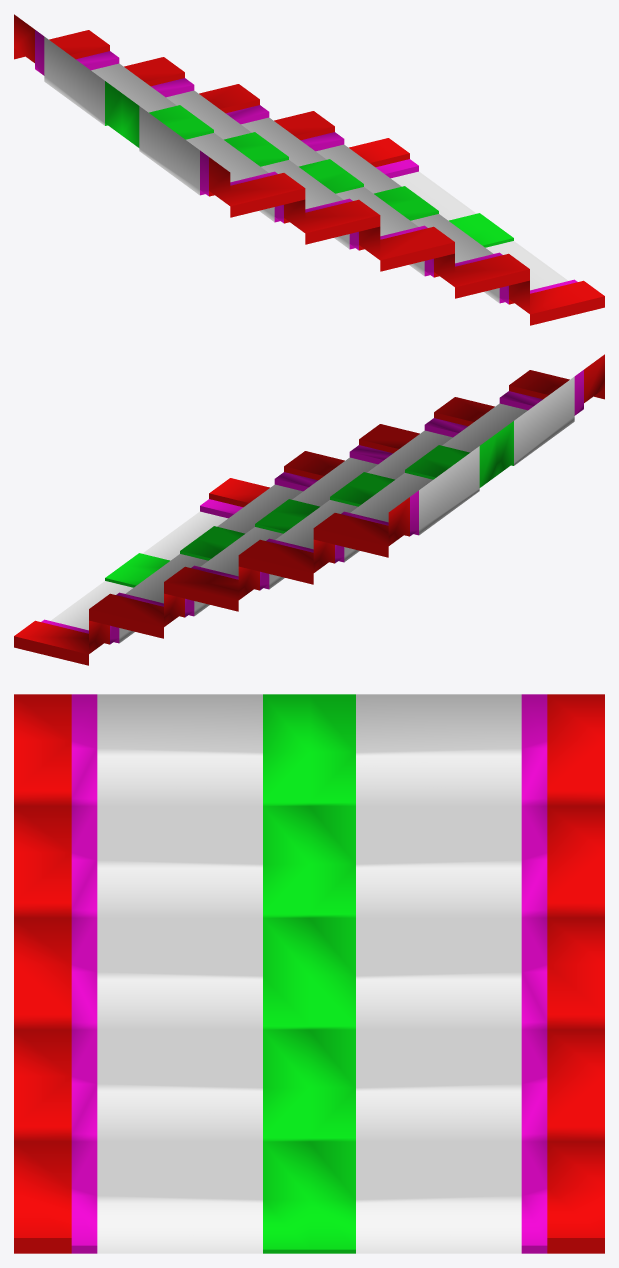
Rendered from Floor-Stairs.fbx.
3 views of the same model, one above another, from view 1: azimuth 30°, elevation 25°; view 2: azimuth 150°, elevation 25°; view 3: azimuth 270°, elevation 25° (orthographic). The views are drawn at different scales.
Parts seen in each view (by area): view 1: Stairs; view 2: Stairs; view 3: Stairs.
Part boxes in pixels (bbox=[...]): Stairs: bbox=[14, 14, 604, 325]; Stairs: bbox=[14, 354, 604, 665]; Stairs: bbox=[14, 694, 604, 1253].
Bounding box in the file's own units: 78.74 × 45.47 × 78.74.
